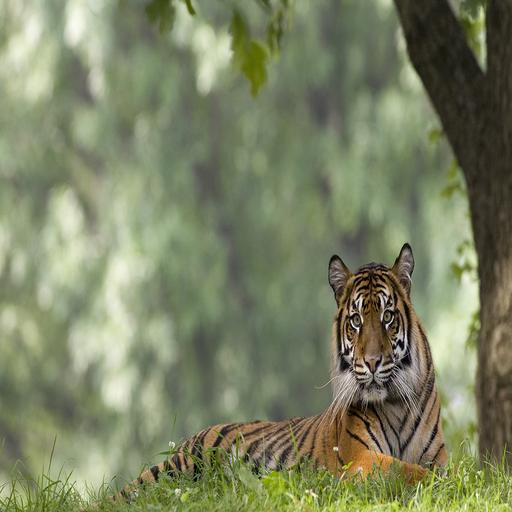Tiger: (66, 234, 466, 512)
